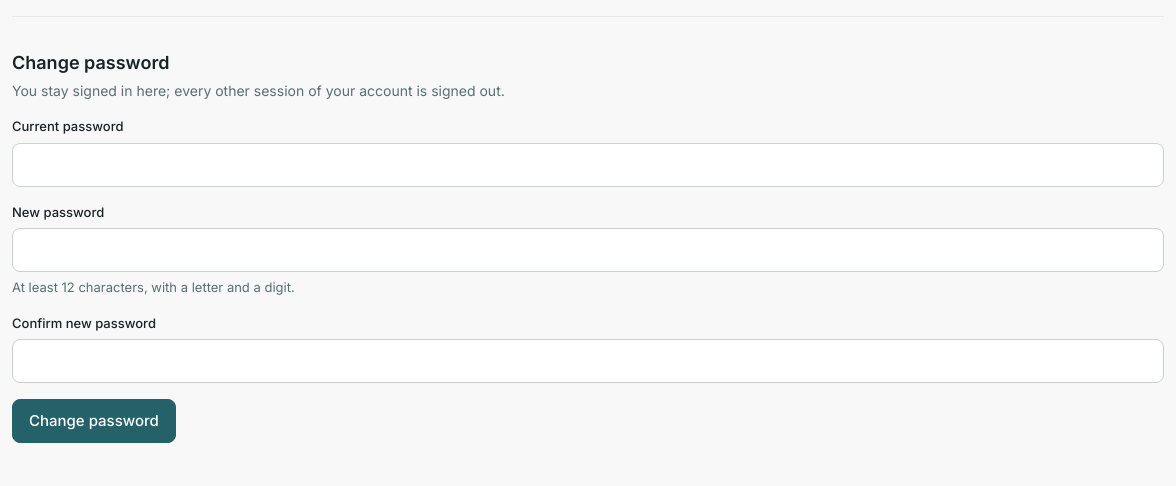
Test case: a wrong current password is shown on its field
The width and height of the screenshot is (1176, 486).
Step 1. Type "not-my-password" into the password field labelled "Current password" → coordinates (588, 164), box [12,142,1164,186]
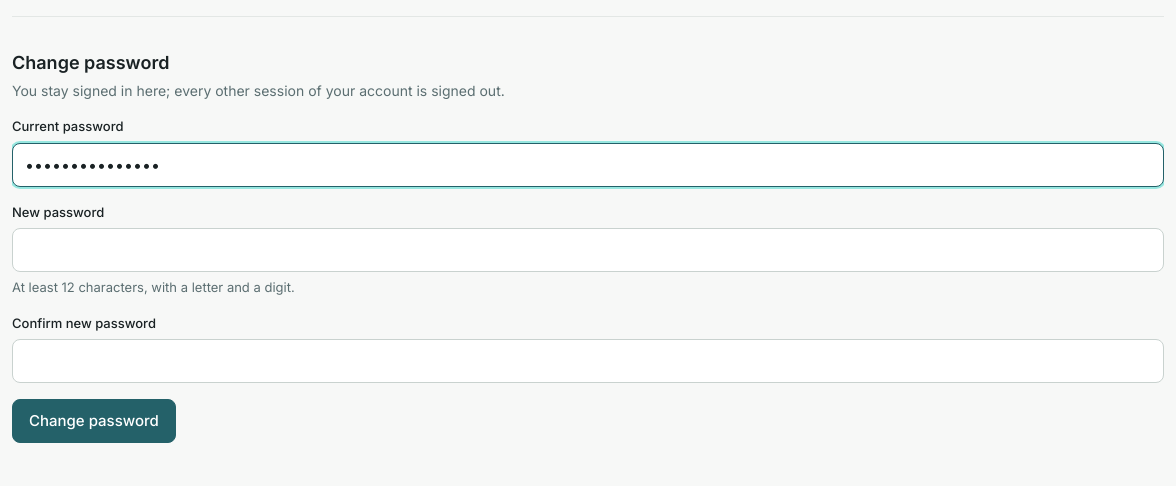
Step 2. Type "new-password-34" into the password field labelled "New password" → coordinates (588, 250), box [12,228,1164,272]
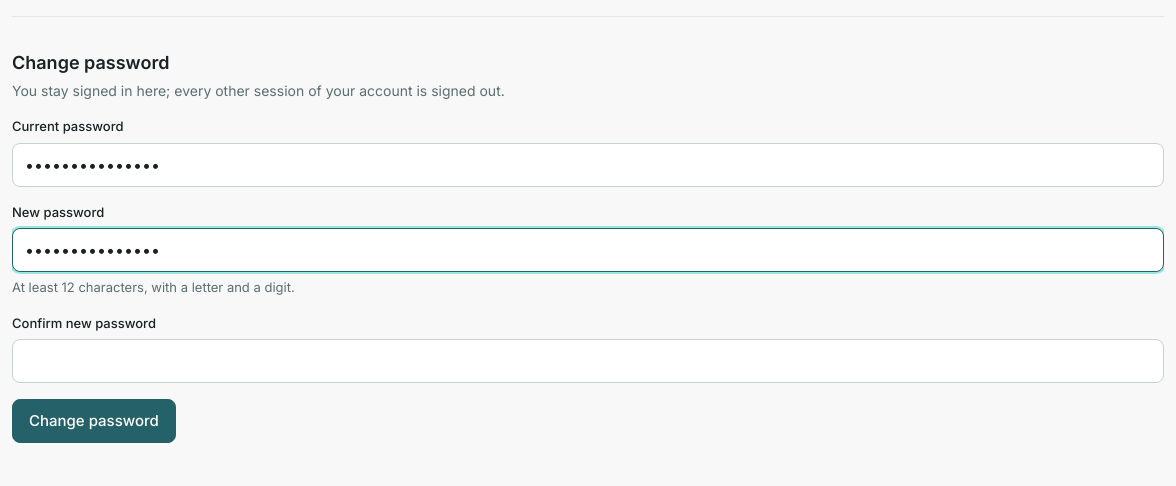
Step 3. Type "new-password-34" into the password field labelled "Confirm new password" → coordinates (588, 361), box [12,339,1164,383]
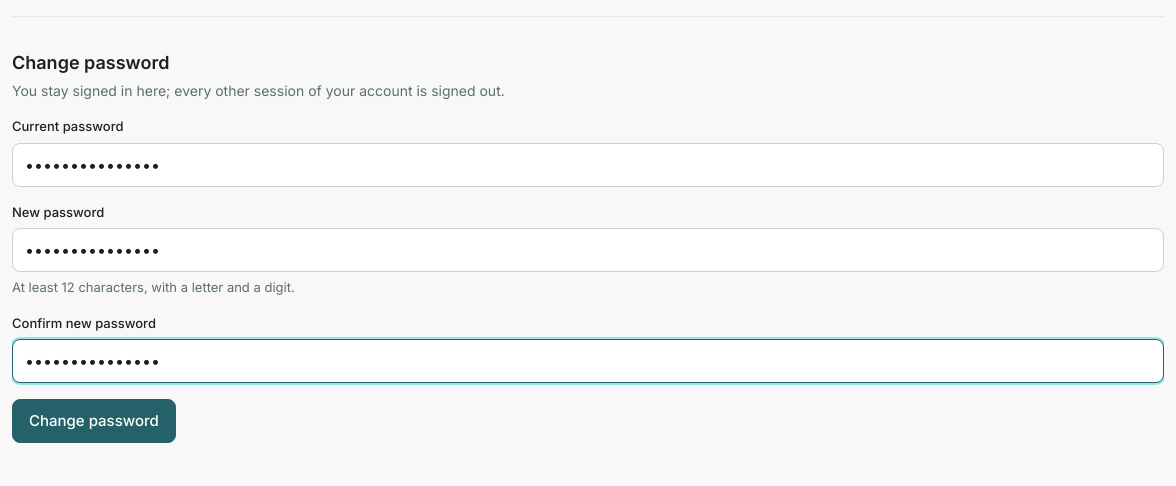
Step 4. Click the button "Change password" → coordinates (94, 421), box [12,399,176,443]
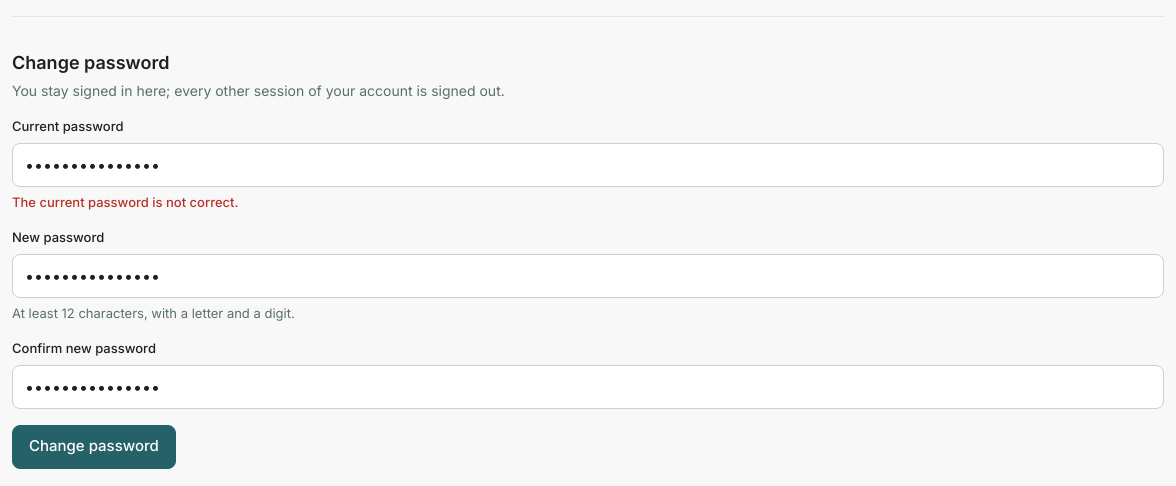
Check: the text "The current password is not correct." is shown, box [12,194,238,210]
